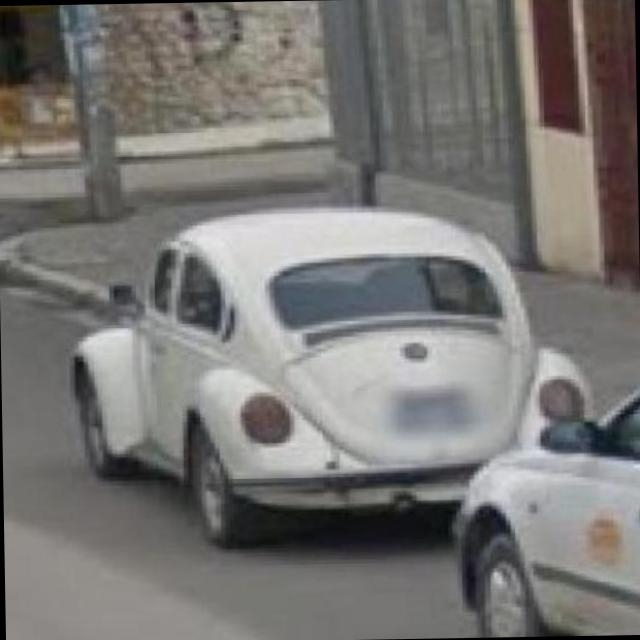car: (70, 205, 574, 533)
